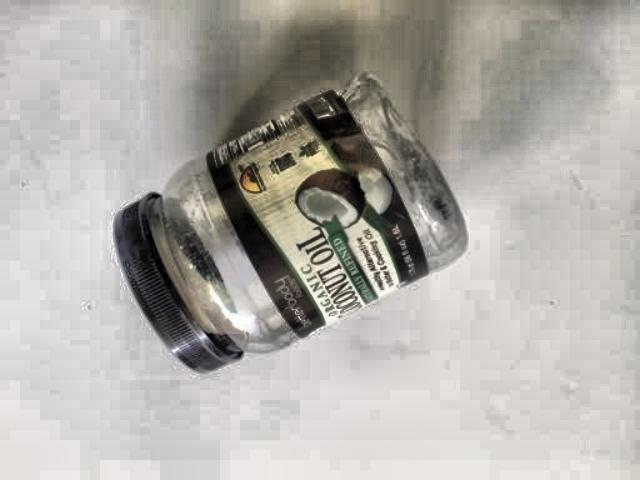Plastic: (5, 22, 640, 480)
